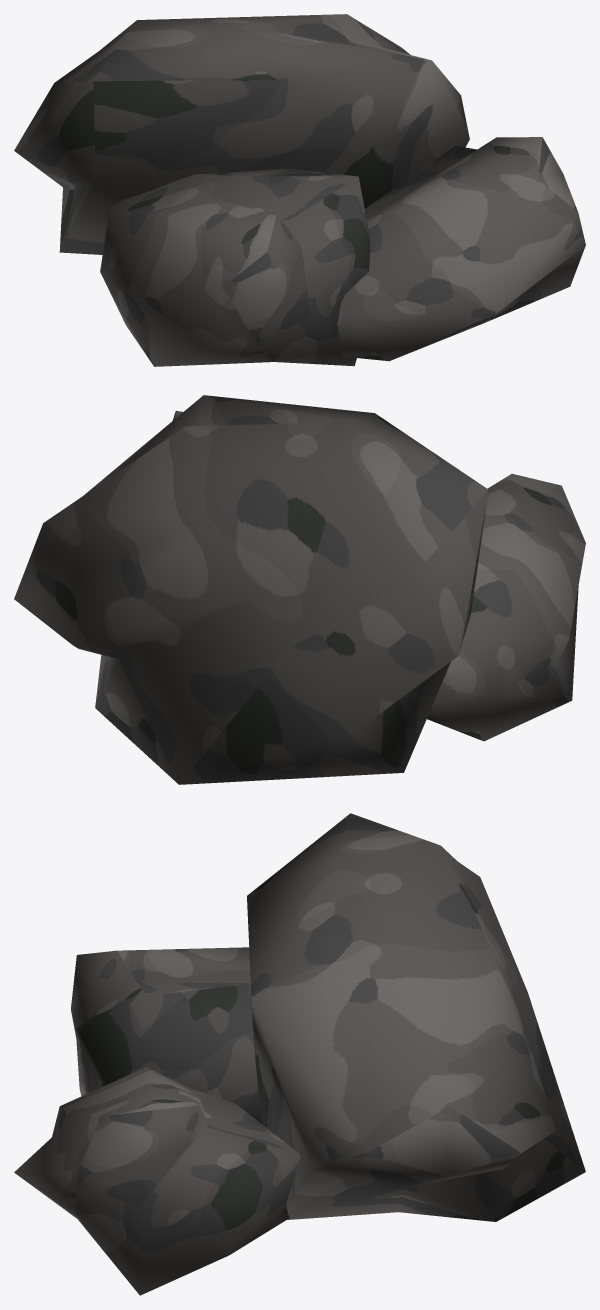
The model's file is Vol Rock 5 X 5 13_preview_3DS_simplified.glb.
3 renders of one model, top to bottom at view 1: azimuth 30°, elevation 25°; view 2: azimuth 150°, elevation 25°; view 3: azimuth 270°, elevation 25°, orthographic. The views are drawn at different scales.
Parts seen in each view (by area): view 1: Marine Park Empire model; view 2: Marine Park Empire model; view 3: Marine Park Empire model.
Part boxes in pixels (x1=…): Marine Park Empire model: x1=14, y1=14, x2=585, y2=366; Marine Park Empire model: x1=14, y1=395, x2=585, y2=784; Marine Park Empire model: x1=14, y1=813, x2=585, y2=1295.
Bounding box in the file's own units: 156 × 97.45 × 161.
1 material, 1 textured.
